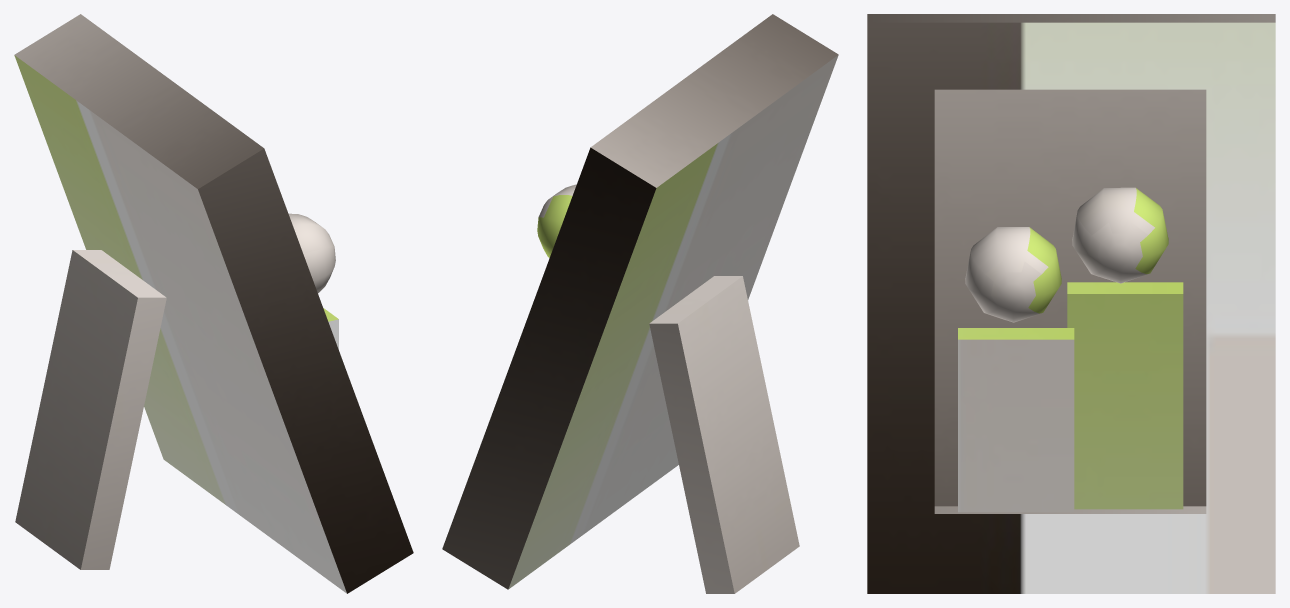
The model's file is PictureBurned.fbx.
The picture shows the model from 3 angles, left to right: view 1: azimuth 30°, elevation 25°; view 2: azimuth 150°, elevation 25°; view 3: azimuth 270°, elevation 25°; orthographic projection. The views are drawn at different scales.
Visible parts, largest first — view 1: Picture1; view 2: Picture1; view 3: Picture1.
Boxes of the visible parts, left/top/right/bottom form: Picture1: left=14, top=14, right=413, bottom=593; Picture1: left=442, top=14, right=838, bottom=593; Picture1: left=867, top=14, right=1275, bottom=593.
Size of the model in its own units: 3.81 by 6.66 by 4.76.
Materials: 1 (1 with a texture image).
